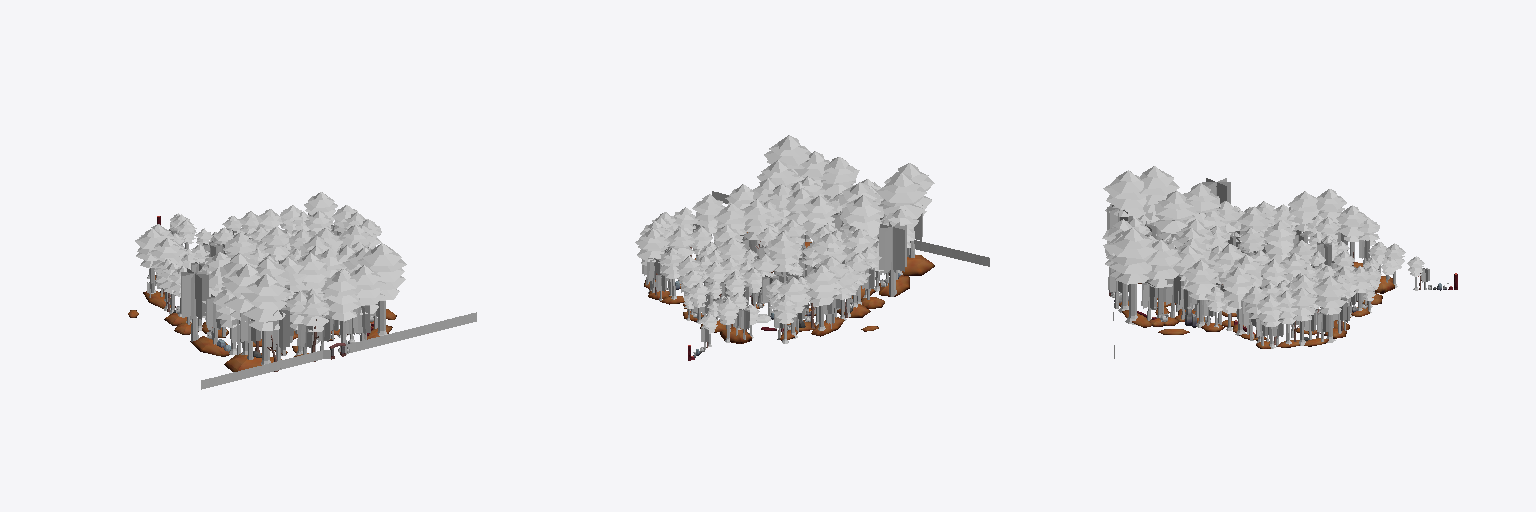
The picture shows the model from 3 angles: view 1: azimuth 30°, elevation 25°; view 2: azimuth 150°, elevation 25°; view 3: azimuth 270°, elevation 25°; orthographic projection.
Visible parts, largest first — view 1: Cylinder.346, Cylinder.391, Cylinder.368, Cylinder.350, Cylinder.347, Cylinder.364, Cylinder.344, Cylinder.167_Cylinder.033, Cylinder.395, Cylinder.426, Cylinder.086, Cylinder.189 (+3 smaller); view 2: Cylinder.350, Cylinder.347, Cylinder.336, Cylinder.426, Cylinder.368, Cylinder.391, Cylinder.150_Cylinder.016, Cylinder.337, Cylinder.286, Cylinder.271, Cylinder.277, Cylinder.270 (+9 smaller); view 3: Cylinder.391, Cylinder.346, Cylinder.329, Cylinder.363, Cylinder.347, Cylinder.210, Cylinder.286, Cylinder.277, Cylinder.150_Cylinder.016, Cylinder.336, Cylinder.189, Cylinder.270 (+6 smaller).
Part boxes in pixels (bbox=[...]): Cylinder.346: bbox=[241, 274, 291, 364]; Cylinder.391: bbox=[357, 243, 406, 335]; Cylinder.368: bbox=[321, 271, 360, 352]; Cylinder.350: bbox=[181, 268, 208, 341]; Cylinder.347: bbox=[222, 264, 261, 354]; Cylinder.364: bbox=[350, 265, 385, 339]; Cylinder.344: bbox=[298, 294, 330, 352]; Cylinder.167_Cylinder.033: bbox=[298, 252, 326, 292]; Cylinder.395: bbox=[266, 307, 289, 360]; Cylinder.426: bbox=[135, 228, 165, 293]; Cylinder.086: bbox=[262, 227, 290, 260]; Cylinder.189: bbox=[149, 238, 184, 301]; Cylinder.350: bbox=[879, 222, 906, 296]; Cylinder.347: bbox=[877, 172, 926, 225]; Cylinder.336: bbox=[842, 195, 883, 242]; Cylinder.426: bbox=[804, 265, 839, 330]; Cylinder.368: bbox=[819, 157, 859, 200]; Cylinder.391: bbox=[764, 135, 810, 182]; Cylinder.150_Cylinder.016: bbox=[767, 232, 799, 280]; Cylinder.337: bbox=[801, 195, 837, 236]; Cylinder.286: bbox=[635, 228, 669, 293]; Cylinder.271: bbox=[741, 199, 773, 254]; Cylinder.277: bbox=[692, 194, 724, 235]; Cylinder.270: bbox=[777, 277, 809, 338]; Cylinder.391: bbox=[1108, 228, 1157, 324]; Cylinder.346: bbox=[1103, 170, 1147, 218]; Cylinder.329: bbox=[1153, 191, 1196, 240]; Cylinder.363: bbox=[1143, 240, 1181, 317]; Cylinder.347: bbox=[1139, 166, 1179, 239]; Cylinder.210: bbox=[1183, 260, 1218, 327]; Cylinder.286: bbox=[1313, 276, 1346, 342]; Cylinder.277: bbox=[1221, 267, 1255, 335]; Cylinder.150_Cylinder.016: bbox=[1264, 221, 1295, 263]; Cylinder.336: bbox=[1183, 183, 1220, 229]; Cylinder.189: bbox=[1288, 191, 1319, 243]; Cylinder.270: bbox=[1336, 205, 1368, 262].
Size of the model in its own units: 893 by 342 by 992.
Materials: 465 (9 with a texture image).